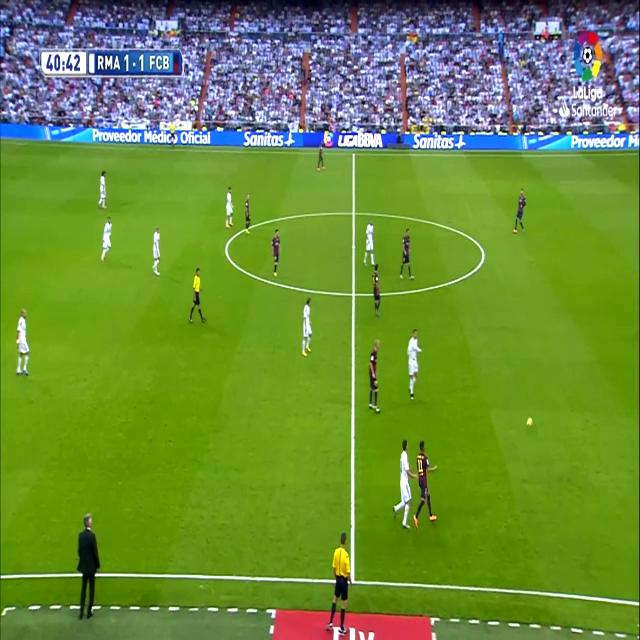halfcircle_bottom: (348, 280, 360, 307)
halfcircle_top: (349, 200, 359, 222)
midline_bottom_intersection: (347, 567, 360, 589)
midline_top_intersection: (350, 147, 358, 161)
